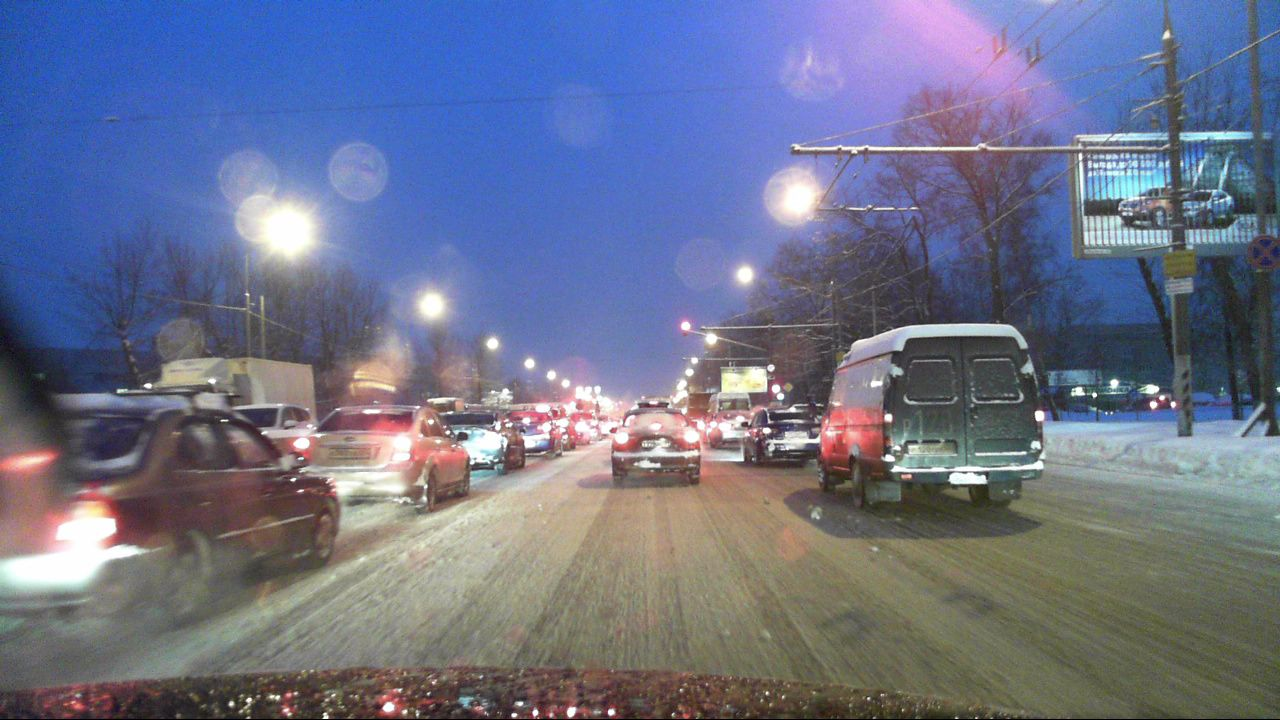No Parking: (1247, 231, 1279, 270)
